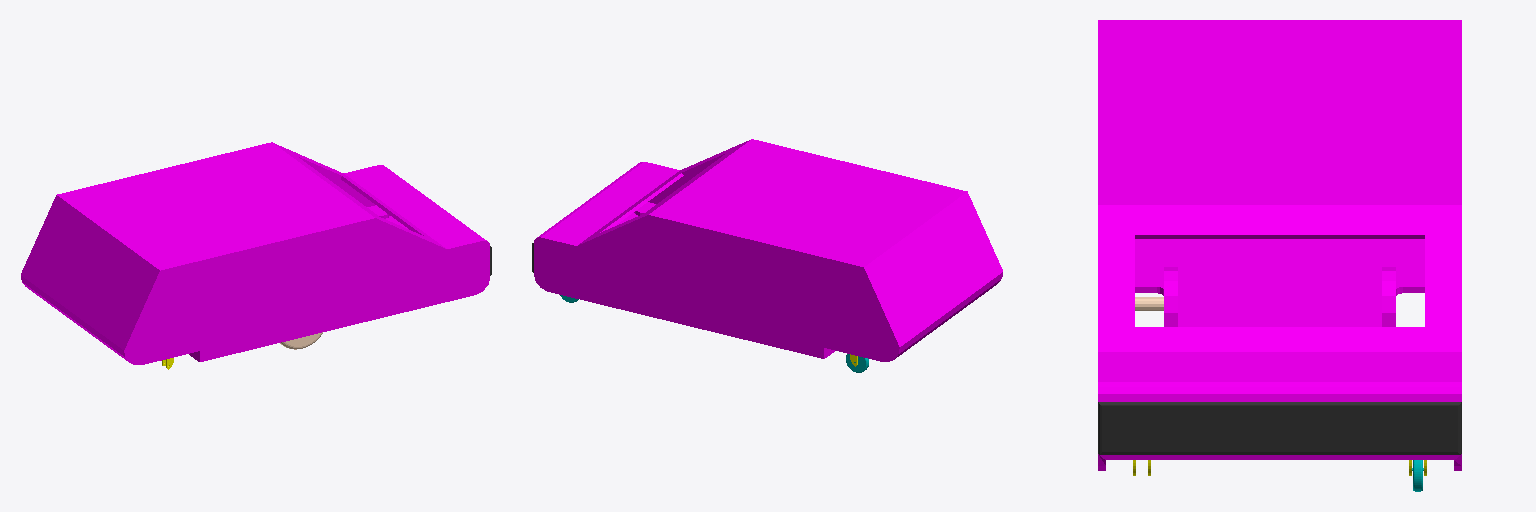
robot.urdf — agvfinal2_varo:
<?xml version="1.0" encoding="utf-8"?>
<!-- This URDF was automatically created by SolidWorks to URDF Exporter! Originally created by [author] ([email redacted]) 
     Commit Version: 1.6.0-1-g15f4949  Build Version: 1.6.7594.29634
     For more information, please see http://wiki.ros.org/sw_urdf_exporter -->
<robot
  name="agvfinal2_varo">
  <link
    name="base_link">
    <inertial>
      <origin
        xyz="-0.0640873190755018 -9.99200722162641E-16 0.112279793906665"
        rpy="0 0 0" />
      <mass
        value="14.1869508369142" />
      <inertia
        ixx="0.588462273329023"
        ixy="-1.04590253701897E-08"
        ixz="0.0697327503182637"
        iyy="1.47677539724383"
        iyz="9.62796666529054E-10"
        izz="1.79873438535669" />
    </inertial>
    <visual>
      <origin
        xyz="0 0 0"
        rpy="0 0 0" />
      <geometry>
        <mesh
          filename="package://agvfinal2_varo/meshes/base_link.STL" />
      </geometry>
      <material
        name="">
        <color
          rgba="1 0 1 1" />
      </material>
    </visual>
    <collision>
      <origin
        xyz="0 0 0"
        rpy="0 0 0" />
      <geometry>
        <mesh
          filename="package://agvfinal2_varo/meshes/base_link.STL" />
      </geometry>
    </collision>
  </link>
  <link
    name="Left_Link">
    <inertial>
      <origin
        xyz="0 -0.016602338839462 -1.66533453693773E-16"
        rpy="0 0 0" />
      <mass
        value="0.52936994072617" />
      <inertia
        ixx="0.000772904303756457"
        ixy="-8.70667323830793E-20"
        ixz="-3.67109231972611E-34"
        iyy="0.0013878620871552"
        iyz="6.44417065836E-18"
        izz="0.000772904303756456" />
    </inertial>
    <visual>
      <origin
        xyz="0 0 0"
        rpy="0 0 0" />
      <geometry>
        <mesh
          filename="package://agvfinal2_varo/meshes/Left_Link.STL" />
      </geometry>
      <material
        name="">
        <color
          rgba="0.996078431372549 0.870588235294118 0.76078431372549 1" />
      </material>
    </visual>
    <collision>
      <origin
        xyz="0 0 0"
        rpy="0 0 0" />
      <geometry>
        <mesh
          filename="package://agvfinal2_varo/meshes/Left_Link.STL" />
      </geometry>
    </collision>
  </link>
  <joint
    name="Left_Joint"
    type="continuous">
    <origin
      xyz="-0.051776 0.23 0.03"
      rpy="0 0 0" />
    <parent
      link="base_link" />
    <child
      link="Left_Link" />
    <axis
      xyz="0 1 0" />
  </joint>
  <link
    name="Right_Link">
    <inertial>
      <origin
        xyz="-5.55111512312578E-16 0.016602338839462 -4.49640324973188E-15"
        rpy="0 0 0" />
      <mass
        value="0.529369940726169" />
      <inertia
        ixx="0.000772904303756456"
        ixy="8.70716048896513E-20"
        ixz="1.91778702835882E-34"
        iyy="0.0013878620871552"
        iyz="2.16984719145409E-18"
        izz="0.000772904303756456" />
    </inertial>
    <visual>
      <origin
        xyz="0 0 0"
        rpy="0 0 0" />
      <geometry>
        <mesh
          filename="package://agvfinal2_varo/meshes/Right_Link.STL" />
      </geometry>
      <material
        name="">
        <color
          rgba="0.996078431372549 0.870588235294118 0.76078431372549 1" />
      </material>
    </visual>
    <collision>
      <origin
        xyz="0 0 0"
        rpy="0 0 0" />
      <geometry>
        <mesh
          filename="package://agvfinal2_varo/meshes/Right_Link.STL" />
      </geometry>
    </collision>
  </link>
  <joint
    name="Right_Joint"
    type="continuous">
    <origin
      xyz="-0.051776 -0.23 0.03"
      rpy="0 0 0" />
    <parent
      link="base_link" />
    <child
      link="Right_Link" />
    <axis
      xyz="0 1 0" />
  </joint>
  <link
    name="LFcon_Link">
    <inertial>
      <origin
        xyz="-0.00121269193407092 -1.11022302462516E-16 -0.000415480513364153"
        rpy="0 0 0" />
      <mass
        value="0.0257521038737953" />
      <inertia
        ixx="8.61473826778216E-06"
        ixy="5.89050228663867E-21"
        ixz="-5.64302073523239E-07"
        iyy="8.11210346787568E-06"
        iyz="-2.07544344045026E-21"
        izz="4.80769500241318E-06" />
    </inertial>
    <visual>
      <origin
        xyz="0 0 0"
        rpy="0 0 0" />
      <geometry>
        <mesh
          filename="package://agvfinal2_varo/meshes/LFcon_Link.STL" />
      </geometry>
      <material
        name="">
        <color
          rgba="1 1 0 1" />
      </material>
    </visual>
    <collision>
      <origin
        xyz="0 0 0"
        rpy="0 0 0" />
      <geometry>
        <mesh
          filename="package://agvfinal2_varo/meshes/LFcon_Link.STL" />
      </geometry>
    </collision>
  </link>
  <joint
    name="LFcon_Joint"
    type="continuous">
    <origin
      xyz="0.39859 0.19 0.025"
      rpy="0 0 0" />
    <parent
      link="base_link" />
    <child
      link="LFcon_Link" />
    <axis
      xyz="0 0 1" />
  </joint>
  <link
    name="LF_Link">
    <inertial>
      <origin
        xyz="0 -0.00649999999999995 -5.55111512312578E-17"
        rpy="0 0 0" />
      <mass
        value="0.0364111988779923" />
      <inertia
        ixx="8.56927811367131E-06"
        ixy="3.75198100318771E-25"
        ixz="2.71591299799106E-37"
        iyy="1.61103246905048E-05"
        iyz="2.54747297031203E-20"
        izz="8.56927811367131E-06" />
    </inertial>
    <visual>
      <origin
        xyz="0 0 0"
        rpy="0 0 0" />
      <geometry>
        <mesh
          filename="package://agvfinal2_varo/meshes/LF_Link.STL" />
      </geometry>
      <material
        name="">
        <color
          rgba="0 0.752941176470588 0.752941176470588 1" />
      </material>
    </visual>
    <collision>
      <origin
        xyz="0 0 0"
        rpy="0 0 0" />
      <geometry>
        <mesh
          filename="package://agvfinal2_varo/meshes/LF_Link.STL" />
      </geometry>
    </collision>
  </link>
  <joint
    name="LF_Joint"
    type="continuous">
    <origin
      xyz="-0.00786387078217188 0.00649999999998607 -0.0400000000000009"
      rpy="0 0 0" />
    <parent
      link="LFcon_Link" />
    <child
      link="LF_Link" />
    <axis
      xyz="0 1 0" />
  </joint>
  <link
    name="RFcon_Link">
    <inertial>
      <origin
        xyz="-0.00121269193407092 0 -0.000415480513364208"
        rpy="0 0 0" />
      <mass
        value="0.0257521038737953" />
      <inertia
        ixx="8.61473826778217E-06"
        ixy="5.39944724015382E-21"
        ixz="-5.6430207352324E-07"
        iyy="8.11210346787568E-06"
        iyz="-1.95077742290104E-21"
        izz="4.80769500241318E-06" />
    </inertial>
    <visual>
      <origin
        xyz="0 0 0"
        rpy="0 0 0" />
      <geometry>
        <mesh
          filename="package://agvfinal2_varo/meshes/RFcon_Link.STL" />
      </geometry>
      <material
        name="">
        <color
          rgba="1 1 0 1" />
      </material>
    </visual>
    <collision>
      <origin
        xyz="0 0 0"
        rpy="0 0 0" />
      <geometry>
        <mesh
          filename="package://agvfinal2_varo/meshes/RFcon_Link.STL" />
      </geometry>
    </collision>
  </link>
  <joint
    name="RFcon_Joint"
    type="continuous">
    <origin
      xyz="0.39859 -0.19 0.025"
      rpy="0 0 0" />
    <parent
      link="base_link" />
    <child
      link="RFcon_Link" />
    <axis
      xyz="0 0 1" />
  </joint>
  <link
    name="RF_Link">
    <inertial>
      <origin
        xyz="-2.22044604925031E-16 0.00650000000000001 5.55111512312578E-17"
        rpy="0 0 0" />
      <mass
        value="0.0364111988779923" />
      <inertia
        ixx="8.56927811367131E-06"
        ixy="1.67531682123137E-26"
        ixz="1.40097792434918E-38"
        iyy="1.61103246905048E-05"
        iyz="2.54747297031203E-20"
        izz="8.56927811367131E-06" />
    </inertial>
    <visual>
      <origin
        xyz="0 0 0"
        rpy="0 0 0" />
      <geometry>
        <mesh
          filename="package://agvfinal2_varo/meshes/RF_Link.STL" />
      </geometry>
      <material
        name="">
        <color
          rgba="0 0.752941176470588 0.752941176470588 1" />
      </material>
    </visual>
    <collision>
      <origin
        xyz="0 0 0"
        rpy="0 0 0" />
      <geometry>
        <mesh
          filename="package://agvfinal2_varo/meshes/RF_Link.STL" />
      </geometry>
    </collision>
  </link>
  <joint
    name="RF_Joint"
    type="continuous">
    <origin
      xyz="-0.00786387078217587 -0.00650000000001394 -0.0400000000000023"
      rpy="0 0 0" />
    <parent
      link="RFcon_Link" />
    <child
      link="RF_Link" />
    <axis
      xyz="0 1 0" />
  </joint>
  <link
    name="LBcon_Link">
    <inertial>
      <origin
        xyz="-0.00121269193407098 0 -0.000415480513364208"
        rpy="0 0 0" />
      <mass
        value="0.0257521038737953" />
      <inertia
        ixx="8.61473826778219E-06"
        ixy="4.13833174709154E-21"
        ixz="-5.6430207352325E-07"
        iyy="8.11210346787571E-06"
        iyz="-1.02255132314604E-20"
        izz="4.80769500241318E-06" />
    </inertial>
    <visual>
      <origin
        xyz="0 0 0"
        rpy="0 0 0" />
      <geometry>
        <mesh
          filename="package://agvfinal2_varo/meshes/LBcon_Link.STL" />
      </geometry>
      <material
        name="">
        <color
          rgba="1 1 0 1" />
      </material>
    </visual>
    <collision>
      <origin
        xyz="0 0 0"
        rpy="0 0 0" />
      <geometry>
        <mesh
          filename="package://agvfinal2_varo/meshes/LBcon_Link.STL" />
      </geometry>
    </collision>
  </link>
  <joint
    name="LBcon_Joint"
    type="continuous">
    <origin
      xyz="-0.40141 0.19 0.025"
      rpy="0 0 0" />
    <parent
      link="base_link" />
    <child
      link="LBcon_Link" />
    <axis
      xyz="0 0 1" />
  </joint>
  <link
    name="LB_Link">
    <inertial>
      <origin
        xyz="0 -0.00649999999999995 0"
        rpy="0 0 0" />
      <mass
        value="0.0364111988779923" />
      <inertia
        ixx="8.56927811367131E-06"
        ixy="-3.41691763893479E-25"
        ixz="1.40097792434932E-38"
        iyy="1.61103246905048E-05"
        iyz="2.54747297031203E-20"
        izz="8.56927811367131E-06" />
    </inertial>
    <visual>
      <origin
        xyz="0 0 0"
        rpy="0 0 0" />
      <geometry>
        <mesh
          filename="package://agvfinal2_varo/meshes/LB_Link.STL" />
      </geometry>
      <material
        name="">
        <color
          rgba="0 0.752941176470588 0.752941176470588 1" />
      </material>
    </visual>
    <collision>
      <origin
        xyz="0 0 0"
        rpy="0 0 0" />
      <geometry>
        <mesh
          filename="package://agvfinal2_varo/meshes/LB_Link.STL" />
      </geometry>
    </collision>
  </link>
  <joint
    name="LB_Joint"
    type="continuous">
    <origin
      xyz="-0.00786387078217188 0.00649999999999451 -0.0399999999999985"
      rpy="0 0 0" />
    <parent
      link="LBcon_Link" />
    <child
      link="LB_Link" />
    <axis
      xyz="0 -1 0" />
  </joint>
  <link
    name="RBcon_Link">
    <inertial>
      <origin
        xyz="-0.00121269193407103 0 -0.000415480513364208"
        rpy="0 0 0" />
      <mass
        value="0.0257521038737953" />
      <inertia
        ixx="8.61473826778216E-06"
        ixy="3.74033392236634E-21"
        ixz="-5.64302073523249E-07"
        iyy="8.11210346787568E-06"
        iyz="-1.07835488458876E-20"
        izz="4.80769500241318E-06" />
    </inertial>
    <visual>
      <origin
        xyz="0 0 0"
        rpy="0 0 0" />
      <geometry>
        <mesh
          filename="package://agvfinal2_varo/meshes/RBcon_Link.STL" />
      </geometry>
      <material
        name="">
        <color
          rgba="1 1 0 1" />
      </material>
    </visual>
    <collision>
      <origin
        xyz="0 0 0"
        rpy="0 0 0" />
      <geometry>
        <mesh
          filename="package://agvfinal2_varo/meshes/RBcon_Link.STL" />
      </geometry>
    </collision>
  </link>
  <joint
    name="RBcon_Joint"
    type="continuous">
    <origin
      xyz="-0.40141 -0.19 0.025"
      rpy="0 0 0" />
    <parent
      link="base_link" />
    <child
      link="RBcon_Link" />
    <axis
      xyz="0 0 1" />
  </joint>
  <link
    name="RB_Link">
    <inertial>
      <origin
        xyz="0 0.00650000000000001 0"
        rpy="0 0 0" />
      <mass
        value="0.0364111988779923" />
      <inertia
        ixx="8.56927811367131E-06"
        ixy="1.67531682123137E-26"
        ixz="2.71591299799104E-37"
        iyy="1.61103246905048E-05"
        iyz="2.54747297031203E-20"
        izz="8.56927811367131E-06" />
    </inertial>
    <visual>
      <origin
        xyz="0 0 0"
        rpy="0 0 0" />
      <geometry>
        <mesh
          filename="package://agvfinal2_varo/meshes/RB_Link.STL" />
      </geometry>
      <material
        name="">
        <color
          rgba="0 0.752941176470588 0.752941176470588 1" />
      </material>
    </visual>
    <collision>
      <origin
        xyz="0 0 0"
        rpy="0 0 0" />
      <geometry>
        <mesh
          filename="package://agvfinal2_varo/meshes/RB_Link.STL" />
      </geometry>
    </collision>
  </link>
  <joint
    name="RB_Joint"
    type="continuous">
    <origin
      xyz="-0.00786387078217587 -0.00650000000000545 -0.0399999999999999"
      rpy="0 0 0" />
    <parent
      link="RBcon_Link" />
    <child
      link="RB_Link" />
    <axis
      xyz="0 -1 0" />
  </joint>
  <link
    name="Sensor_Link">
    <inertial>
      <origin
        xyz="-0.00254436416091663 -8.32667268468867E-15 -4.9960036108132E-16"
        rpy="0 0 0" />
      <mass
        value="0.193830128132172" />
      <inertia
        ixx="0.00410299707197696"
        ixy="-1.44422341136505E-18"
        ixz="5.499318523041E-20"
        iyy="9.85671925445419E-05"
        iyz="1.62556294845771E-10"
        izz="0.00400522777358793" />
    </inertial>
    <visual>
      <origin
        xyz="0 0 0"
        rpy="0 0 0" />
      <geometry>
        <mesh
          filename="package://agvfinal2_varo/meshes/Sensor_Link.STL" />
      </geometry>
      <material
        name="">
        <color
          rgba="0.250980392156863 0.250980392156863 0.250980392156863 1" />
      </material>
    </visual>
    <collision>
      <origin
        xyz="0 0 0"
        rpy="0 0 0" />
      <geometry>
        <mesh
          filename="package://agvfinal2_varo/meshes/Sensor_Link.STL" />
      </geometry>
    </collision>
  </link>
  <joint
    name="Sensor_Joint"
    type="fixed">
    <origin
      xyz="0.463223969860691 0 0.0800000000000001"
      rpy="0 0 0" />
    <parent
      link="base_link" />
    <child
      link="Sensor_Link" />
    <axis
      xyz="0 0 0" />
  </joint>
  <gazebo reference="Sensor_Link">
    <sensor type="ray" name="laser">
        <pose>0 0 0 0 0 0</pose>
        <visualize>true</visualize>
        <update_rate>40</update_rate>
        <ray>
            <scan>
                <horizontal>
                    <samples>720</samples>
                    <resolution>1</resolution>
                    <min_angle>-1.578</min_angle>
                    <max_angle>1.578</max_angle>
                </horizontal>
            </scan>
            <range>
                <min>0.1</min>
                <max>10</max>
                <resolution>0.1</resolution>
            </range>
        </ray>
        <plugin name="Lidar" filename="libgazebo_ros_laser.so">
            <topicName>/scan</topicName>
            <frameName>Sensor_Link</frameName>
        </plugin>
    </sensor>
</gazebo>
  <gazebo>
    <plugin name="controller"   filename="libgazebo_ros_diff_drive.so">
        <leftJoint>Left_Joint</leftJoint>
        <rightJoint>Right_Joint</rightJoint>
        <legacyMode>false</legacyMode>
        <robotBaseFrame>base_link</robotBaseFrame>
        <wheelSeparation>0.4</wheelSeparation>
        <wheelDiameter>0.15</wheelDiameter>
        <publishWheelJointState>true</publishWheelJointState>
    </plugin>
    
</gazebo>
   <gazebo>
    <plugin name="joint_state_publisher"
            filename="libgazebo_ros_joint_state_publisher.so">
        <jointName>LF_Joint, RF_Joint, LB_Joint, RB_Joint, RFcon_Joint, RBcon_Joint, LFcon_Joint, LBcon_Joint</jointName>
    </plugin>
</gazebo>
</robot>

--- Facts derived from the render (not from the file) ---
The picture shows the robot from 3 angles, left to right: view 1: azimuth 30°, elevation 25°; view 2: azimuth 150°, elevation 25°; view 3: azimuth 270°, elevation 25°; orthographic projection.
Model agvfinal2_varo with 12 links and 11 joints (10 continuous, 1 fixed), rooted at base_link, posed every joint at zero.
Links seen in each view (by area): view 1: base_link; view 2: base_link; view 3: base_link, Sensor_Link.
Boxes of the visible links, x1=… form: base_link: x1=21, y1=142, x2=489, y2=364; base_link: x1=534, y1=139, x2=1002, y2=361; base_link: x1=1098, y1=20, x2=1461, y2=470; Sensor_Link: x1=1098, y1=402, x2=1461, y2=454.
Bounding box of the posed robot: 1.02 × 0.5 × 0.315 m (x, y, z).
9 mesh visuals loaded from 12 distinct referenced files (9 binary STL); not drawn: 3 (reference not matched to a file when rendering).
